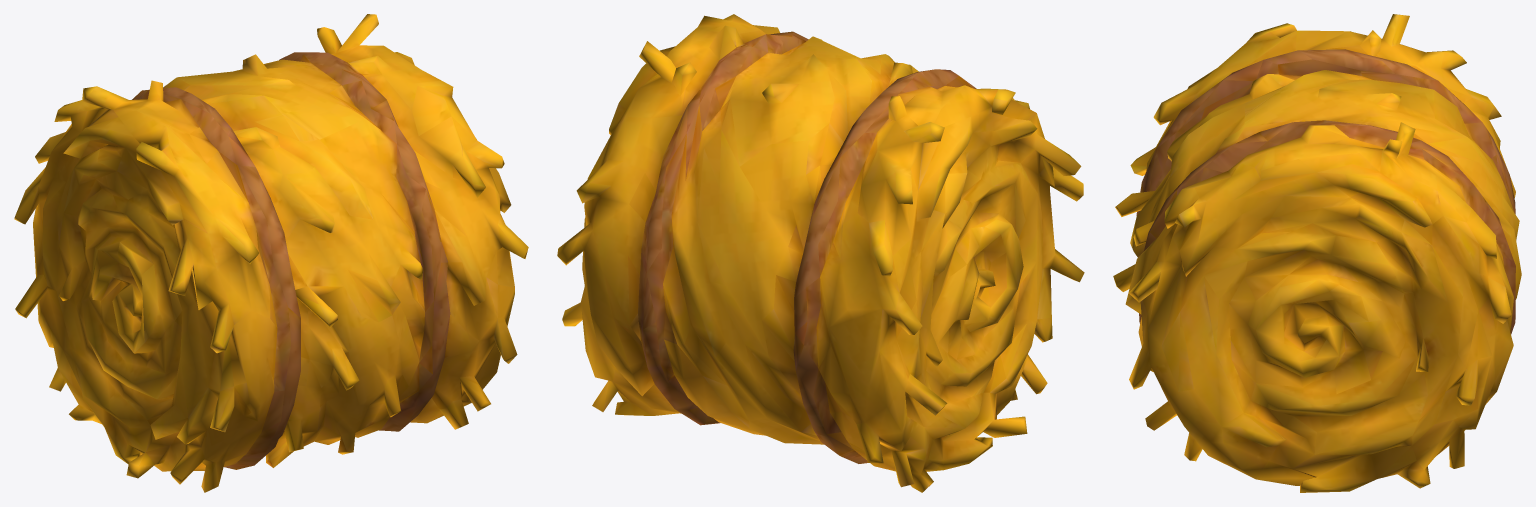
3 views of the same model, side by side, from view 1: azimuth 30°, elevation 25°; view 2: azimuth 150°, elevation 25°; view 3: azimuth 270°, elevation 25° (orthographic). The views are drawn at different scales.
Visible parts, largest first — view 1: hay-bale; view 2: hay-bale; view 3: hay-bale.
Part boxes in pixels (<box>): hay-bale: <box>14,14,528,492</box>; hay-bale: <box>557,14,1084,492</box>; hay-bale: <box>1113,14,1521,492</box>.
Bounding box in the file's own units: 1 × 0.9576 × 0.9909.
Materials: 1 (1 with a texture image).
